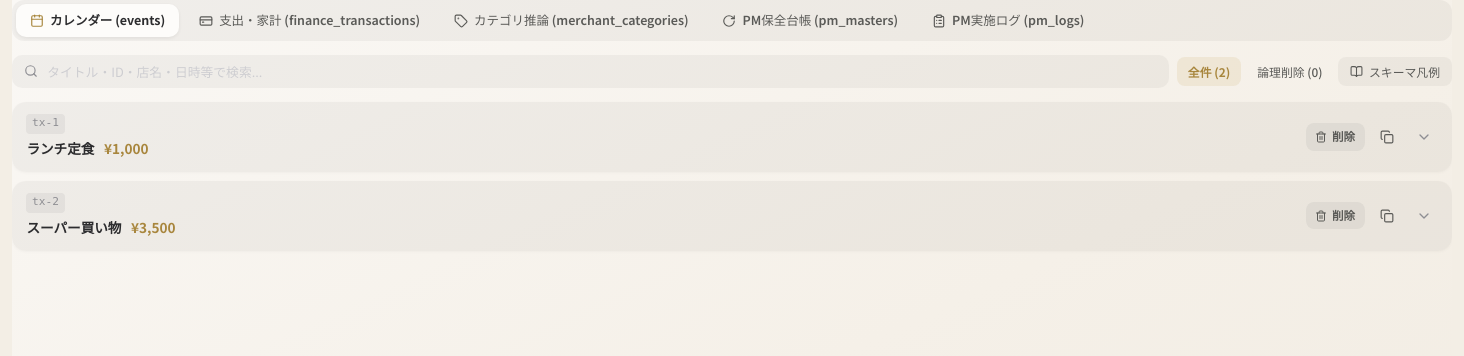
Test case: システム保守・診断コンソール (System Maintenance) › DbInspectorTab › 検索バーによる絞り込みができること
Expected: the text "ランチ定食" is shown, [26, 138, 94, 158]
Expected: the text "スーパー買い物" is shown, [26, 217, 121, 237]
Type "ランチ" into the field with placeholder "タイトル・ID・店名・日時等で検索..." at (590, 72), box [12, 55, 1169, 88]
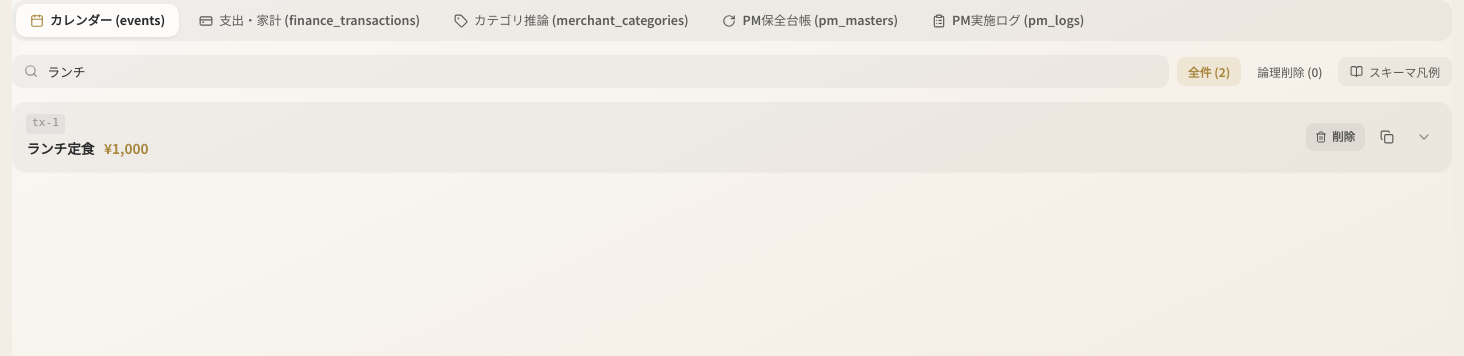
Expected: the text "ランチ定食" is shown, [26, 138, 94, 158]
Now the text "スーパー買い物" is gone
